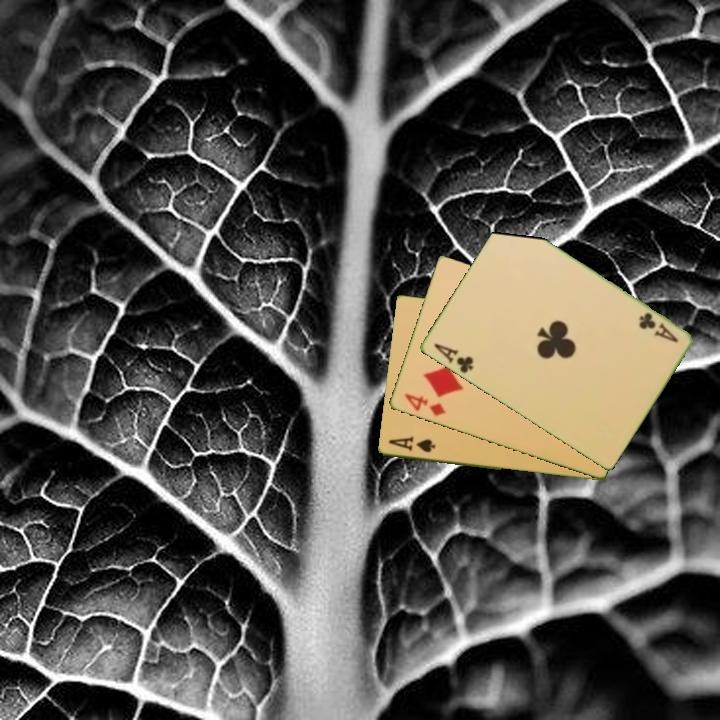4d: (400, 390, 448, 419)
Ac: (635, 309, 681, 346), (430, 340, 476, 376)
As: (385, 433, 438, 456)
